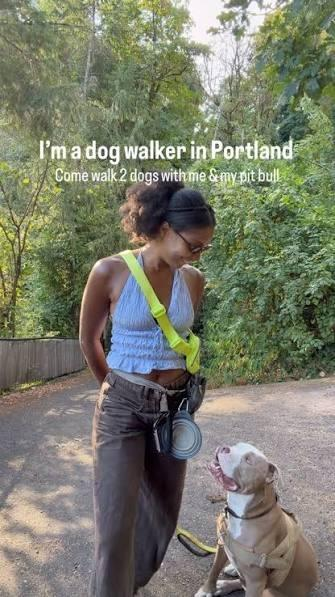adult_dog: (196, 439, 320, 597)
non-dog: (80, 177, 213, 597)
